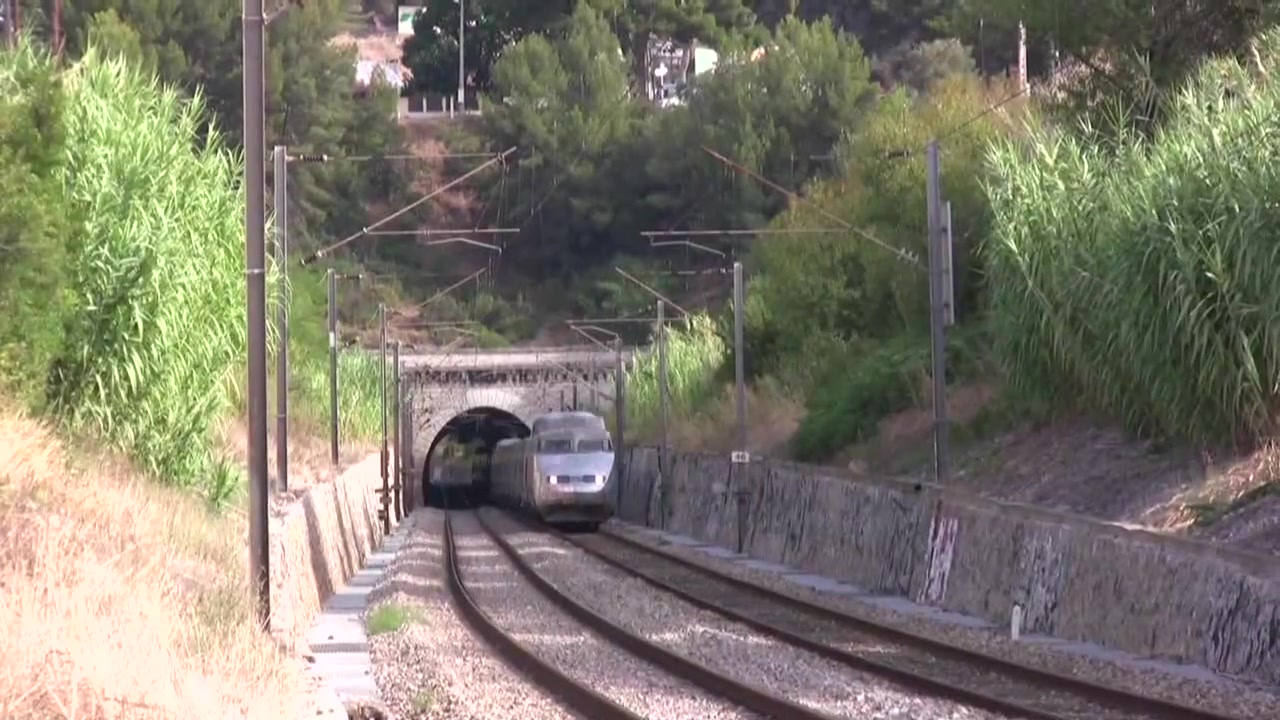train: (425, 408, 625, 528)
